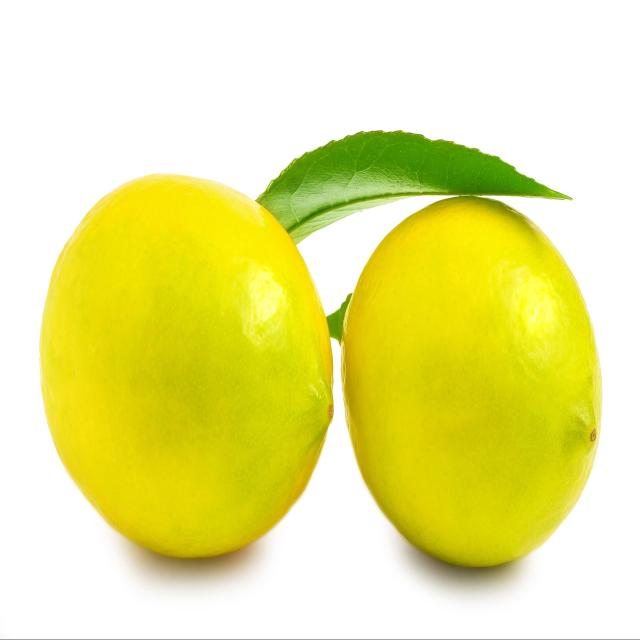lemon: (32, 168, 340, 574)
